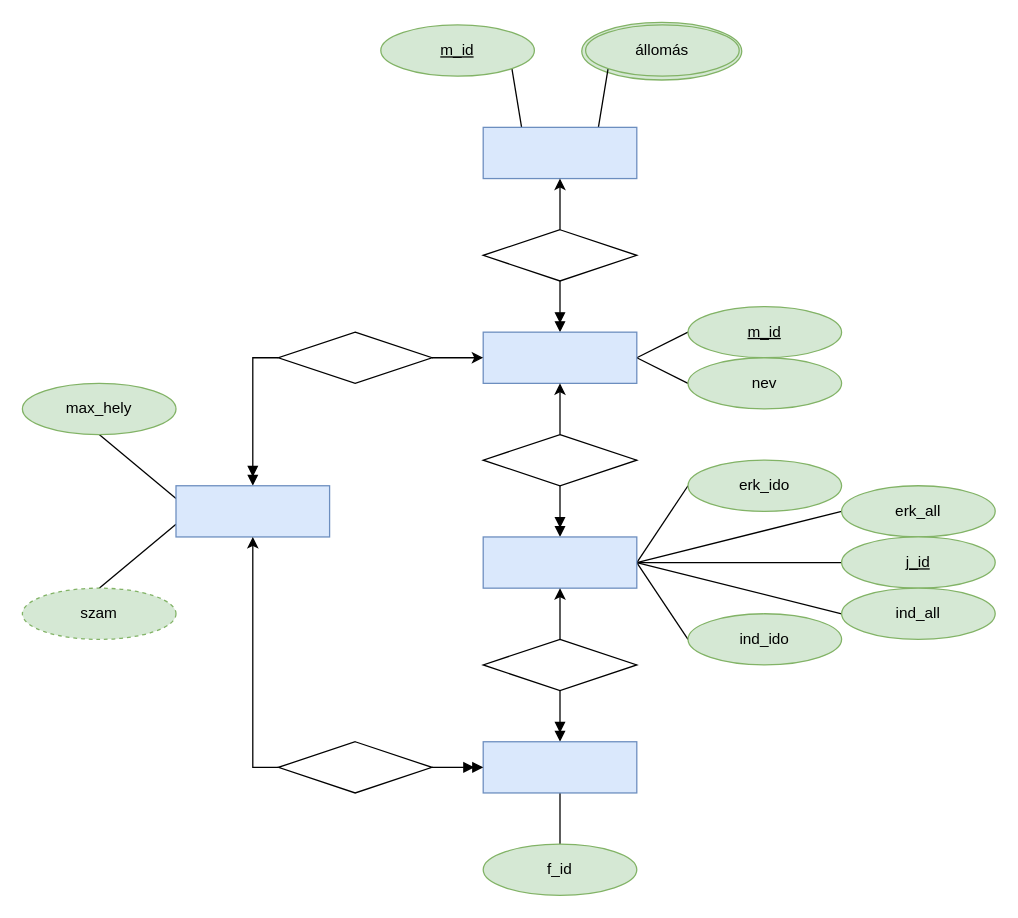
The diagram is 1018 pixels wide and 918 high, and some of its shapes have lost their labels. Each missing label, with the box of its shape:
foglalás: (482, 740, 637, 793)
járat: (482, 536, 637, 588)
kocsi: (175, 484, 330, 537)
máv: (482, 126, 637, 179)
vonat: (482, 331, 637, 383)
